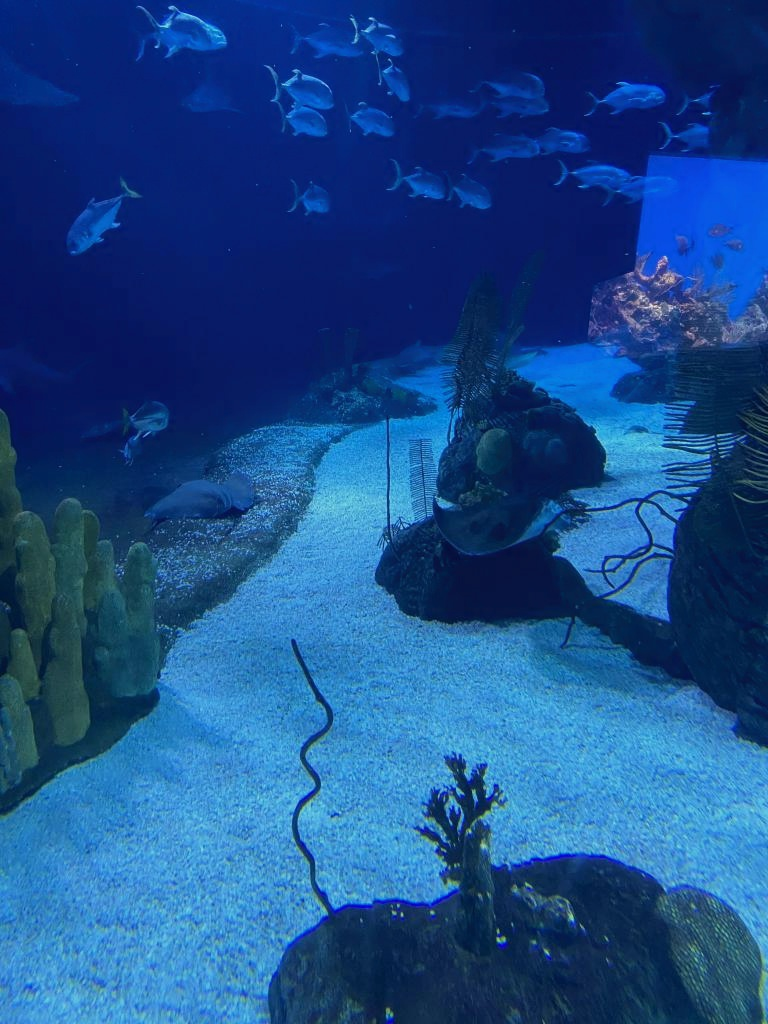fish: (65, 175, 141, 257), (121, 5, 227, 59), (264, 64, 334, 110), (136, 6, 212, 48), (582, 82, 666, 116), (288, 24, 364, 58), (598, 174, 678, 206), (470, 66, 544, 100), (467, 130, 538, 164), (385, 158, 445, 198), (552, 158, 632, 188), (124, 389, 170, 439), (412, 88, 479, 120), (272, 100, 328, 136), (442, 169, 492, 209), (342, 98, 394, 136), (373, 50, 409, 102), (474, 93, 548, 117), (288, 177, 332, 217), (352, 24, 404, 56), (536, 126, 590, 156), (659, 122, 709, 152), (676, 84, 720, 116), (394, 339, 444, 367), (117, 434, 147, 466)
shark: (0, 332, 93, 404), (1, 46, 79, 108), (176, 52, 246, 116)
stingray: (432, 492, 570, 556), (144, 471, 254, 519)
